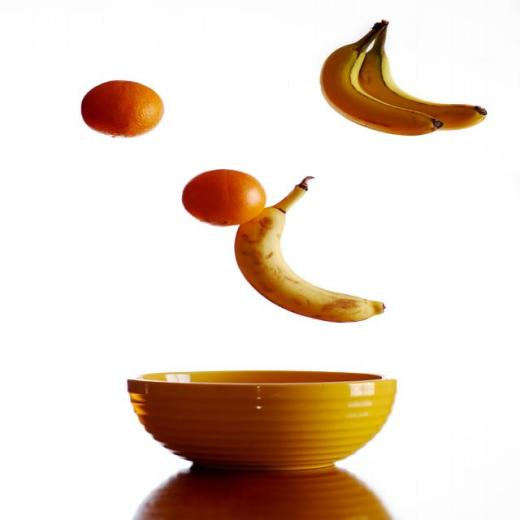Banana: (233, 181, 387, 325), (362, 20, 492, 131)
Grape: (180, 163, 274, 222), (80, 76, 168, 135)
